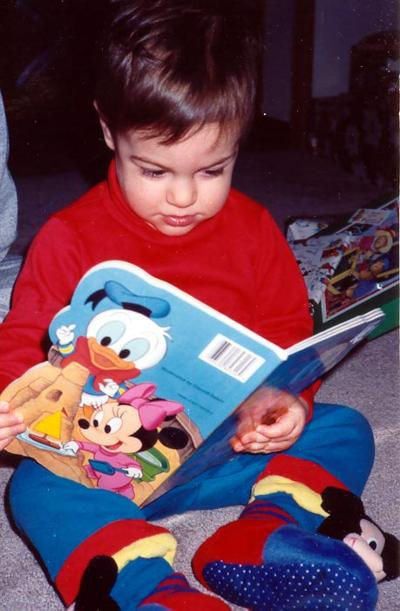person: (1, 2, 400, 611)
